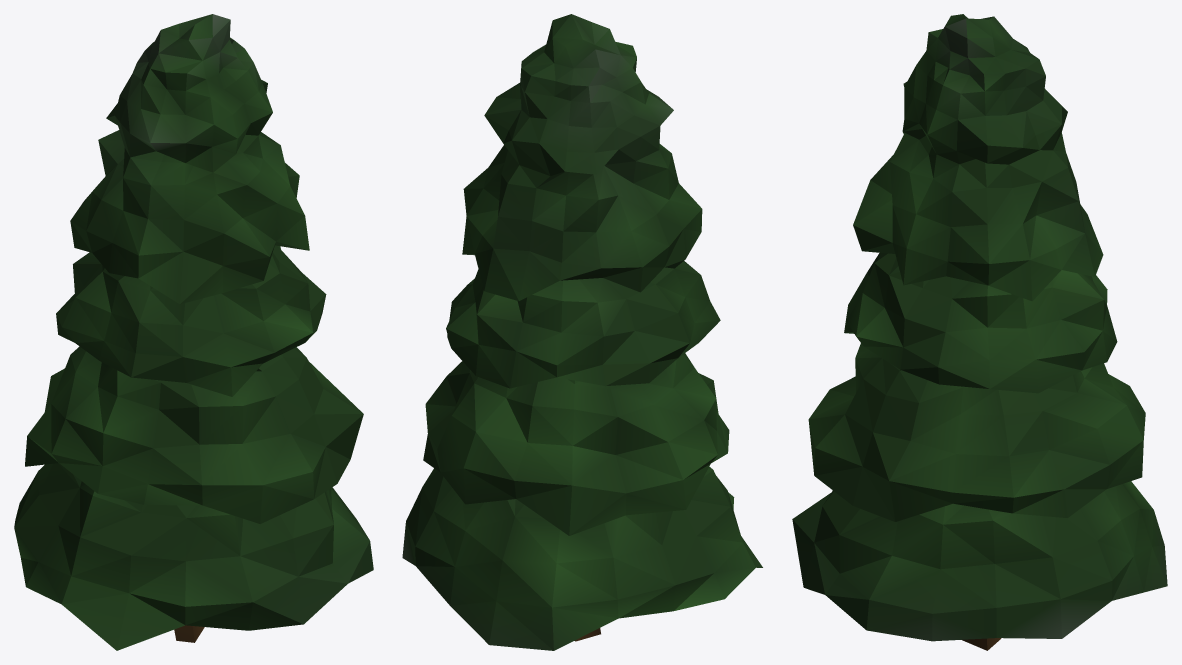
File: tree3.glb
3 renders of one model, left to right at view 1: azimuth 30°, elevation 25°; view 2: azimuth 150°, elevation 25°; view 3: azimuth 270°, elevation 25°, orthographic. The views are drawn at different scales.
Visible parts, largest first — view 1: _1_tree__1_tree_0; view 2: _1_tree__1_tree_0; view 3: _1_tree__1_tree_0.
Boxes of the visible parts, x1,y1,x2,y2 form: _1_tree__1_tree_0: [14, 14, 373, 650]; _1_tree__1_tree_0: [402, 14, 762, 650]; _1_tree__1_tree_0: [792, 14, 1167, 650].
Size of the model in its own units: 0.7483 by 1.45 by 0.7799.
